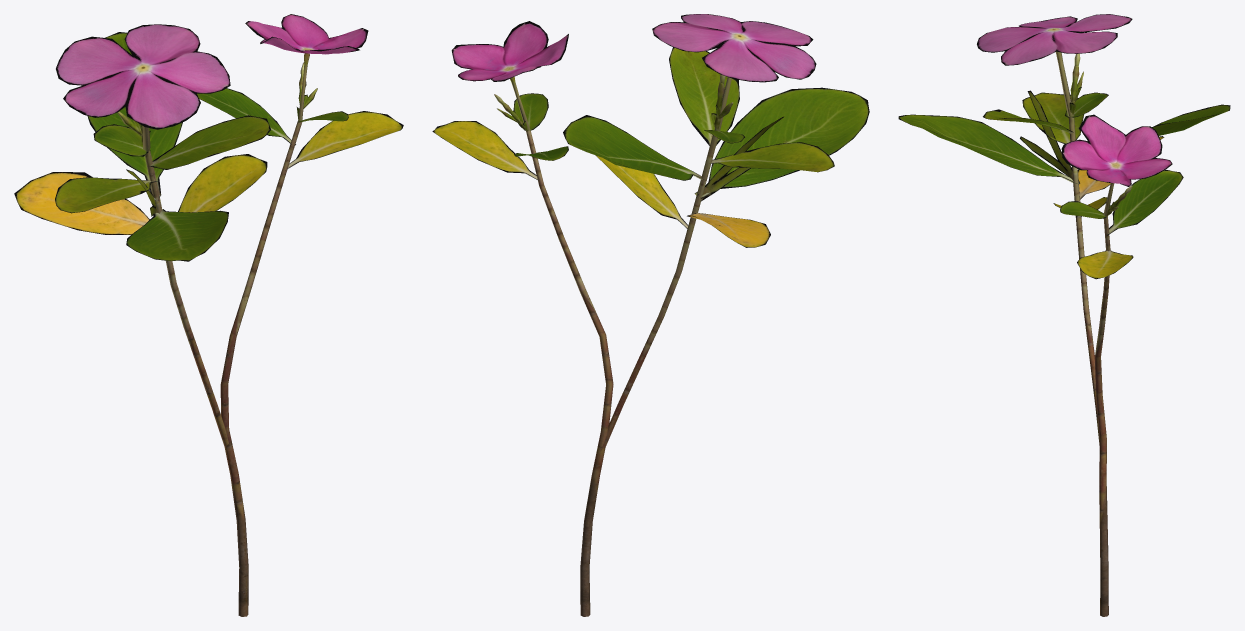
Rendered from periwinkle_plant_5.gltf.
3 renders of one model, left to right at view 1: azimuth 30°, elevation 25°; view 2: azimuth 150°, elevation 25°; view 3: azimuth 270°, elevation 25°, orthographic. The views are drawn at different scales.
Visible parts, largest first — view 1: periwinkle_plant_06_LOD0; view 2: periwinkle_plant_06_LOD0; view 3: periwinkle_plant_06_LOD0.
Boxes of the visible parts, x1=… form: periwinkle_plant_06_LOD0: x1=14, y1=14, x2=403, y2=616; periwinkle_plant_06_LOD0: x1=432, y1=14, x2=869, y2=616; periwinkle_plant_06_LOD0: x1=898, y1=14, x2=1230, y2=616.
Size of the model in its own units: 0.1029 by 0.1597 by 0.0894.
1 material, 1 textured.
